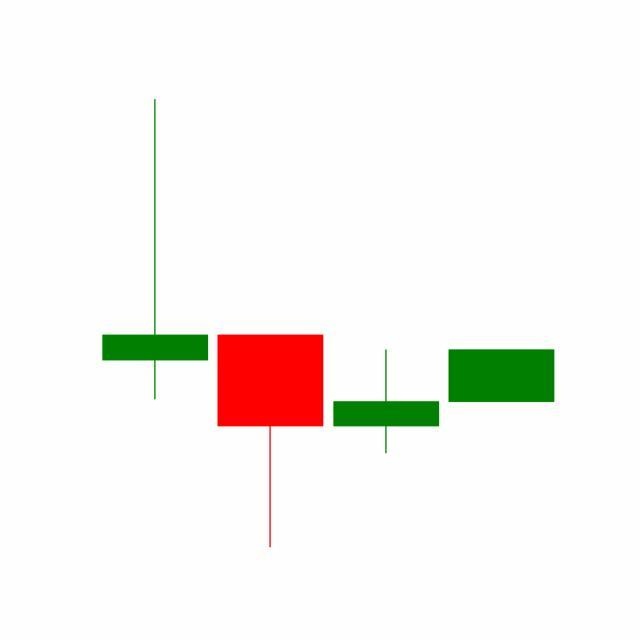Marubozu: (444, 348, 560, 403)
